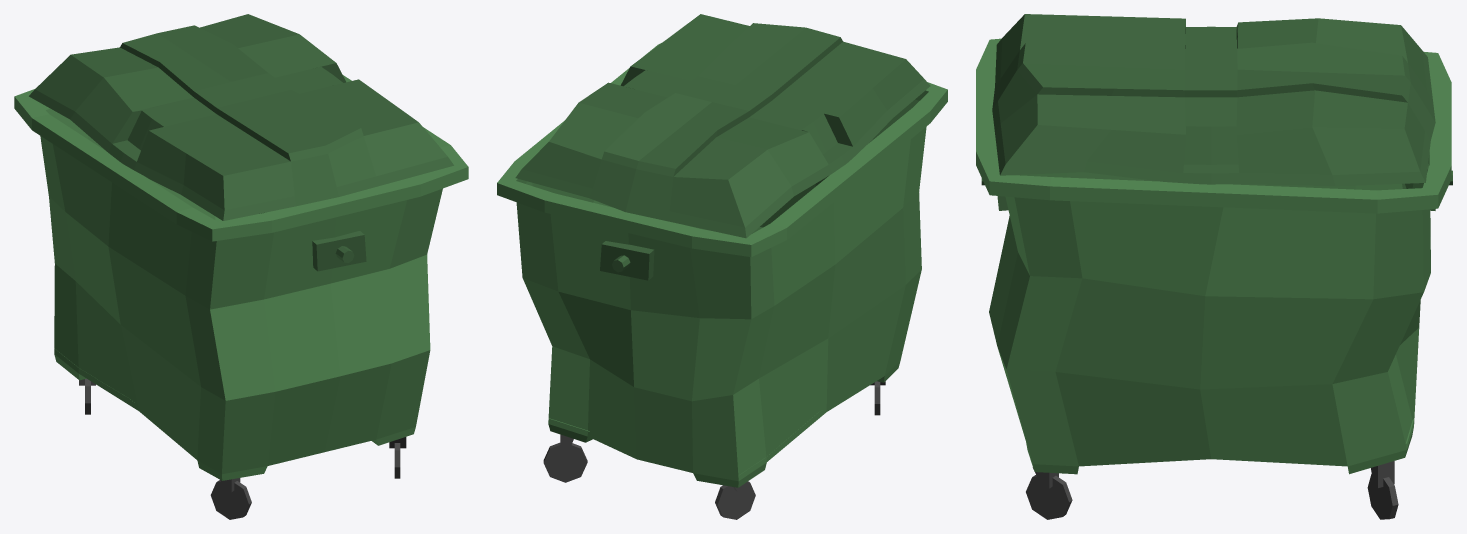
The model's file is Container.fbx.
3 views of the same model, side by side, from view 1: azimuth 30°, elevation 25°; view 2: azimuth 150°, elevation 25°; view 3: azimuth 270°, elevation 25° (orthographic). The views are drawn at different scales.
Visible parts, largest first — view 1: Cube, Cube.003, Cube.001, Cube.002; view 2: Cube, Cube.003, Cube.001, Cube.002; view 3: Cube, Cube.003, Cube.001.
Part boxes in pixels (bbox=[...]): Cube: bbox=[14, 75, 468, 480]; Cube.003: bbox=[29, 14, 453, 220]; Cube.001: bbox=[79, 378, 406, 519]; Cube.002: bbox=[312, 231, 366, 271]; Cube: bbox=[497, 43, 947, 487]; Cube.003: bbox=[515, 14, 930, 238]; Cube.001: bbox=[543, 381, 885, 519]; Cube.002: bbox=[600, 241, 654, 280]; Cube: bbox=[976, 38, 1451, 474]; Cube.003: bbox=[992, 14, 1435, 186]; Cube.001: bbox=[1026, 461, 1398, 519].
Bounding box in the file's own units: 84.4 × 106 × 112.
